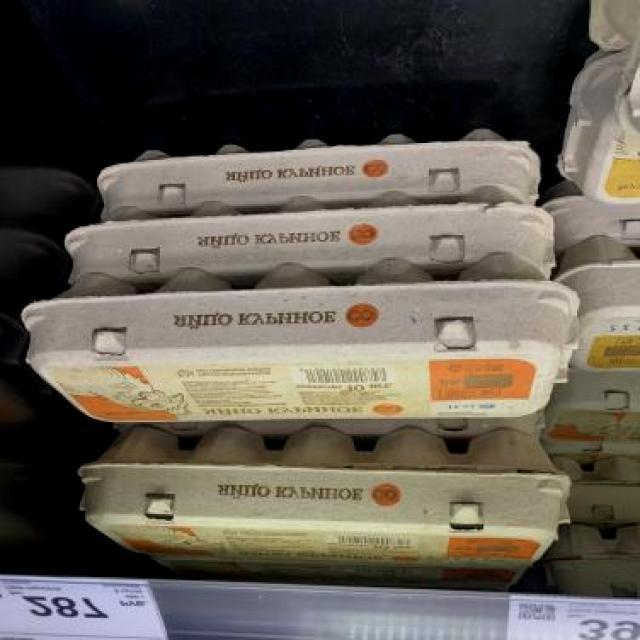egg: (7, 246, 584, 428), (74, 422, 574, 564)
